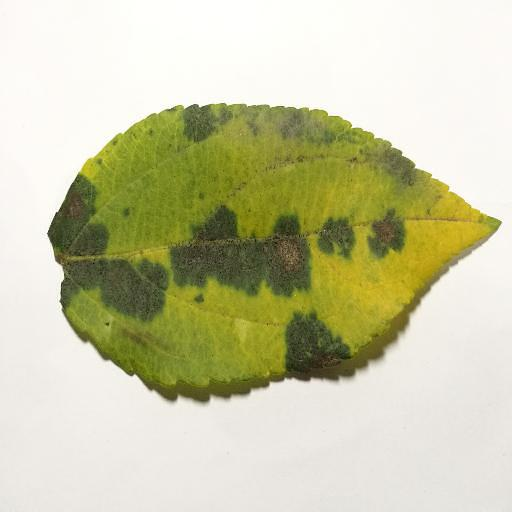Brown_Spot: (63, 196, 410, 386)
